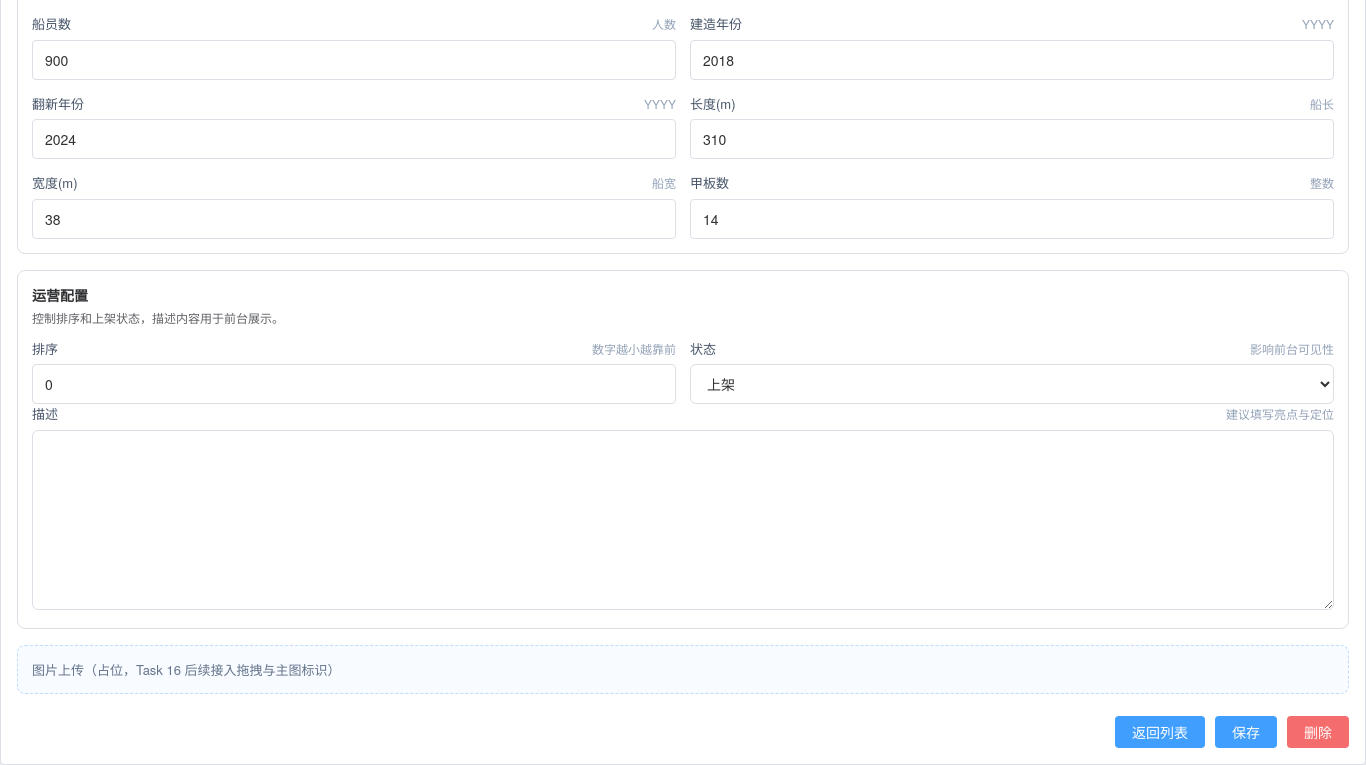
Test: Cruise edit page › deletes after confirm then navigates
(page scrolled)
Click the button "删除": (1318, 732) [1287,716,1349,748]
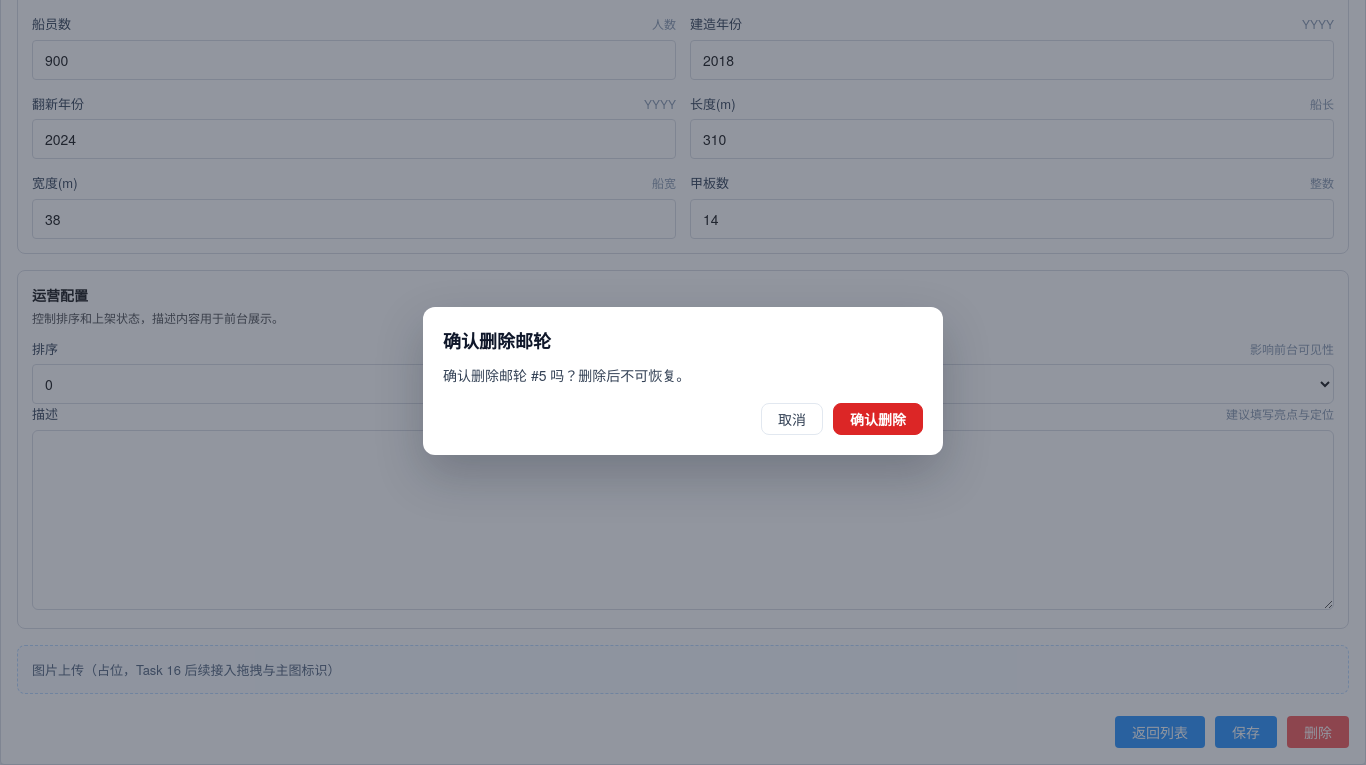
Check: the button "确认删除" is shown
Click the button "确认删除": (878, 419) [833,403,923,435]
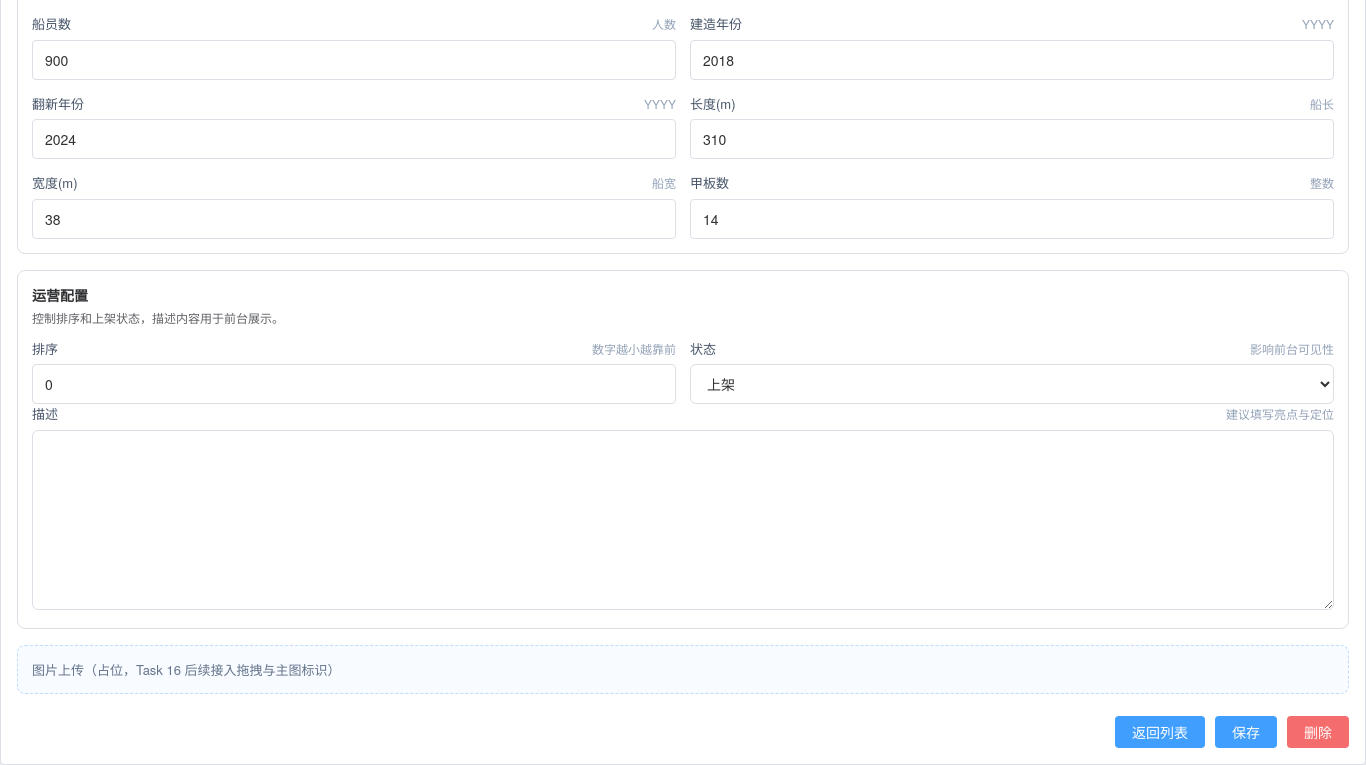
Check: the text "确认删除邮轮" is gone
